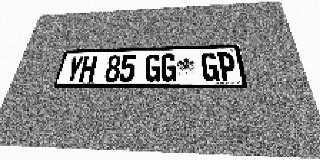5: (119, 55, 136, 82)
8: (104, 55, 122, 82)
G: (201, 53, 220, 81), (144, 54, 161, 82), (160, 54, 176, 82)
H: (78, 56, 98, 82)
P: (217, 52, 237, 81)
Y: (64, 56, 84, 82)
